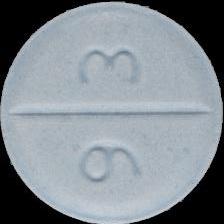0093-7256: (0, 0, 224, 224)
